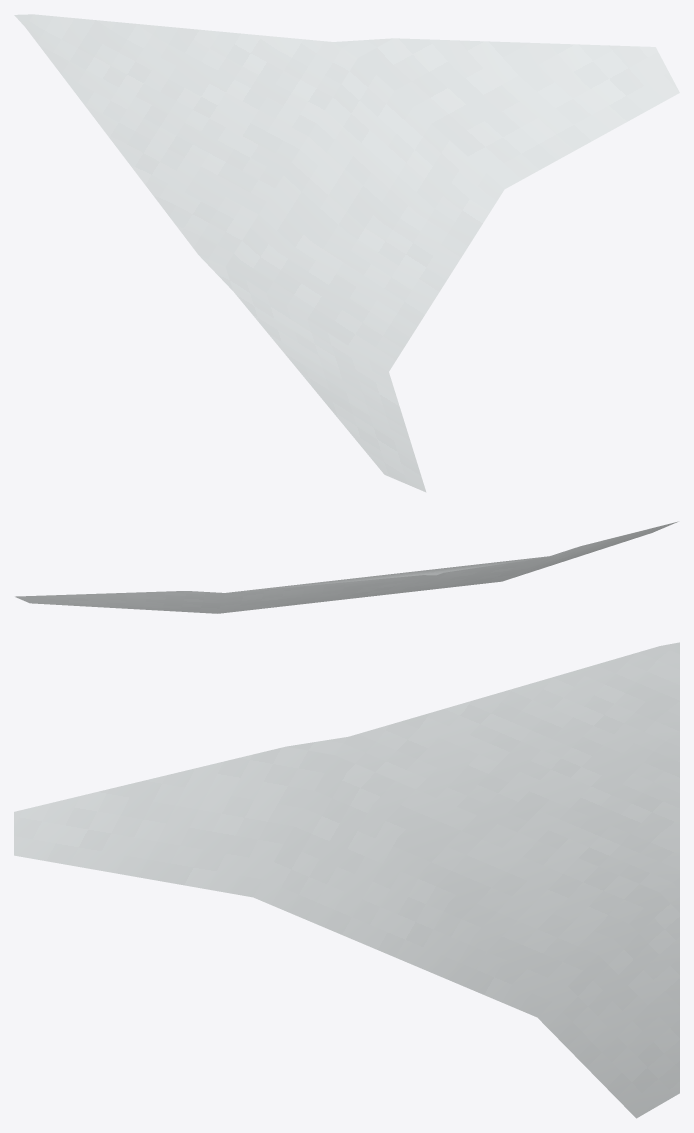
File: spheroid_medium_1_1_1.obj
The picture shows the model from 3 angles, top to bottom: view 1: azimuth 30°, elevation 25°; view 2: azimuth 150°, elevation 25°; view 3: azimuth 270°, elevation 25°; orthographic projection. The views are drawn at different scales.
Parts seen in each view (by area): view 1: spheroid_medium_1_1_1; view 2: spheroid_medium_1_1_1; view 3: spheroid_medium_1_1_1.
Part boxes in pixels (left/top/right/bottom): spheroid_medium_1_1_1: left=14, top=14, right=679, bottom=492; spheroid_medium_1_1_1: left=15, top=521, right=678, bottom=613; spheroid_medium_1_1_1: left=14, top=642, right=679, bottom=1118.
Size of the model in its own units: 3 by 0.9683 by 3.
